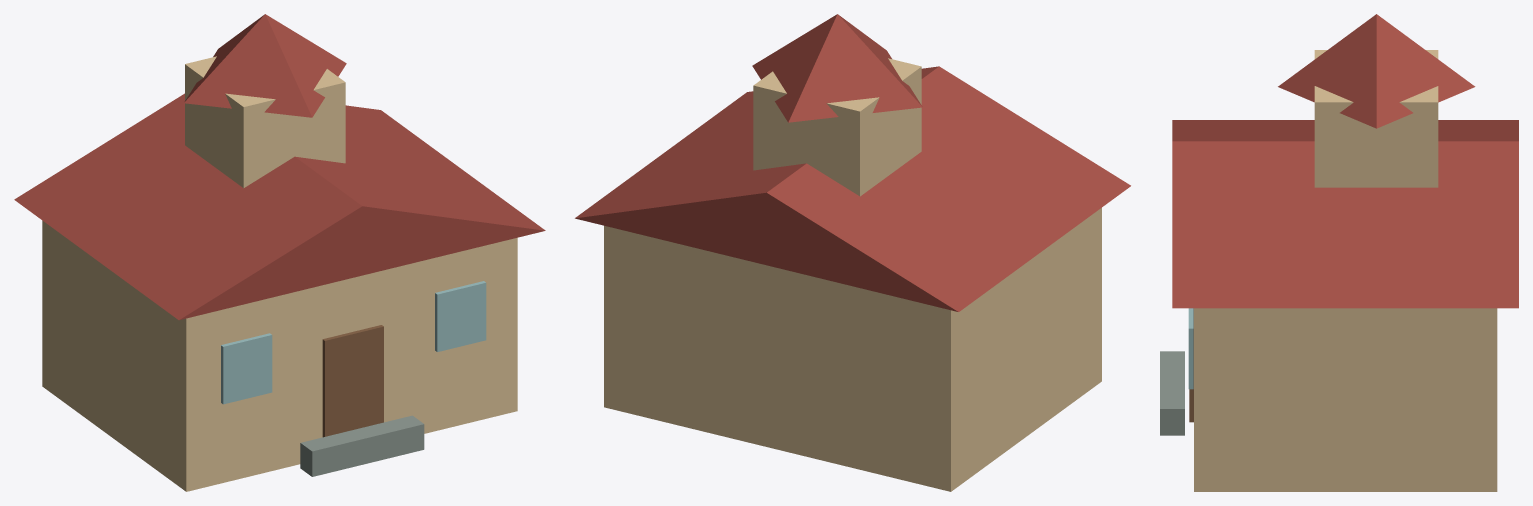
The model's file is bld_guardpost.glb.
3 views of the same model, side by side, from view 1: azimuth 30°, elevation 25°; view 2: azimuth 150°, elevation 25°; view 3: azimuth 270°, elevation 25° (orthographic). The views are drawn at different scales.
Parts seen in each view (by area): view 1: bld_guardpost; view 2: bld_guardpost; view 3: bld_guardpost.
Boxes of the visible parts, <box> form: bld_guardpost: <box>14,14,545,491</box>; bld_guardpost: <box>575,14,1130,491</box>; bld_guardpost: <box>1160,14,1518,491</box>.
Bounding box in the file's own units: 3.6 × 3.51 × 2.9.
Materials: 1 (1 with a texture image).
